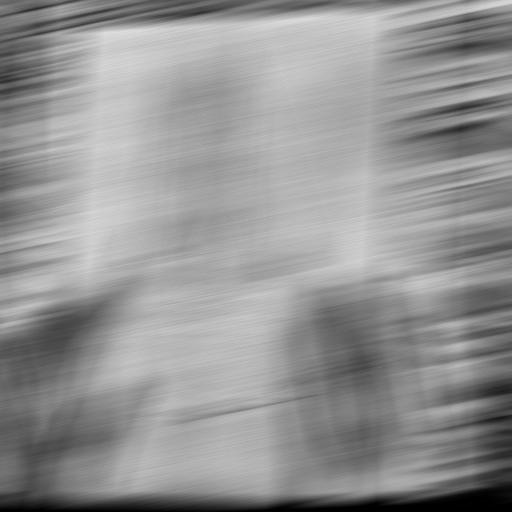boat: (70, 2, 385, 434)
bottom_left: (15, 485, 49, 496)
top_left: (44, 25, 75, 35)
top_right: (401, 2, 437, 18)
